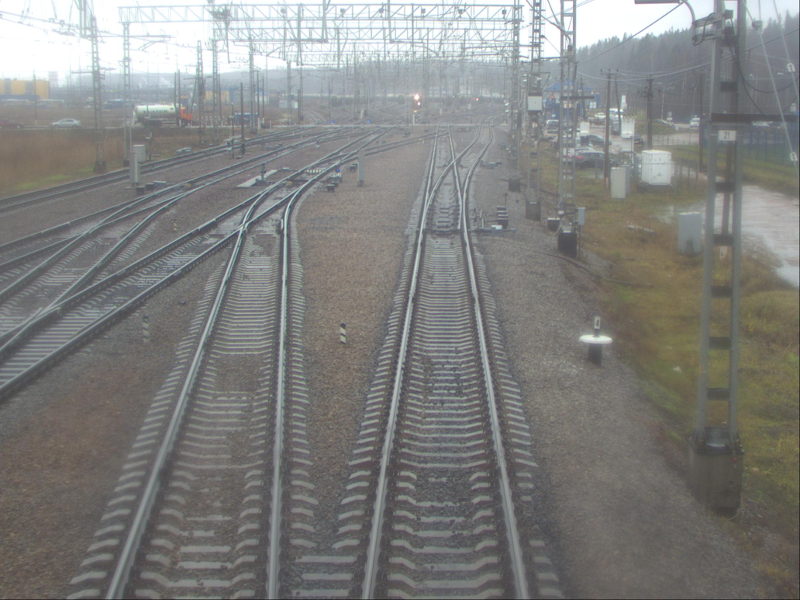right: (419, 150, 469, 233)
